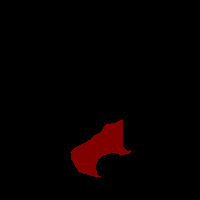mutande: (70, 118, 131, 177)
